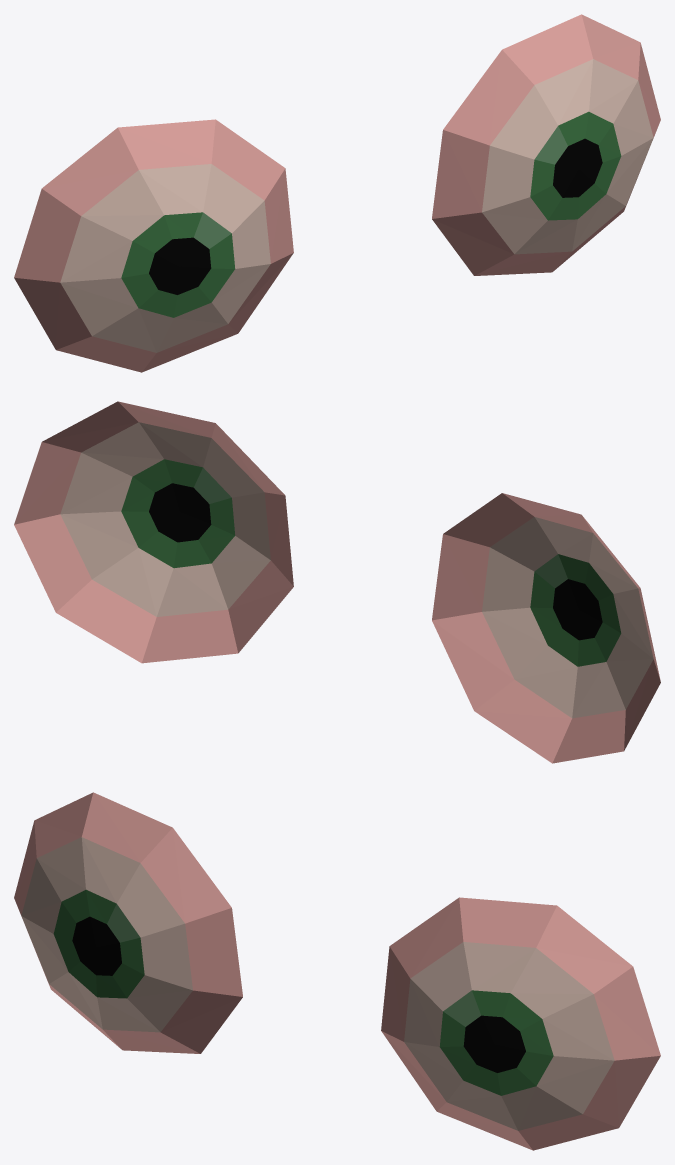
Rendered from eyesGreenFemale.glb.
The picture shows the model from 3 angles, top to bottom: view 1: azimuth 30°, elevation 25°; view 2: azimuth 150°, elevation 25°; view 3: azimuth 330°, elevation 25°; orthographic projection.
Visible parts, largest first — view 1: eyesGreenFemale; view 2: eyesGreenFemale; view 3: eyesGreenFemale.
Boxes of the visible parts, x1=… form: eyesGreenFemale: x1=14, y1=14, x2=660, y2=372; eyesGreenFemale: x1=14, y1=401, x2=660, y2=763; eyesGreenFemale: x1=14, y1=792, x2=660, y2=1150.
Size of the model in its own units: 0.1266 by 0.0474 by 0.0155.
